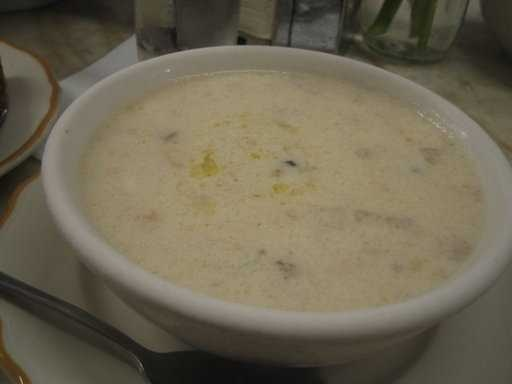soup: (70, 61, 500, 340)
